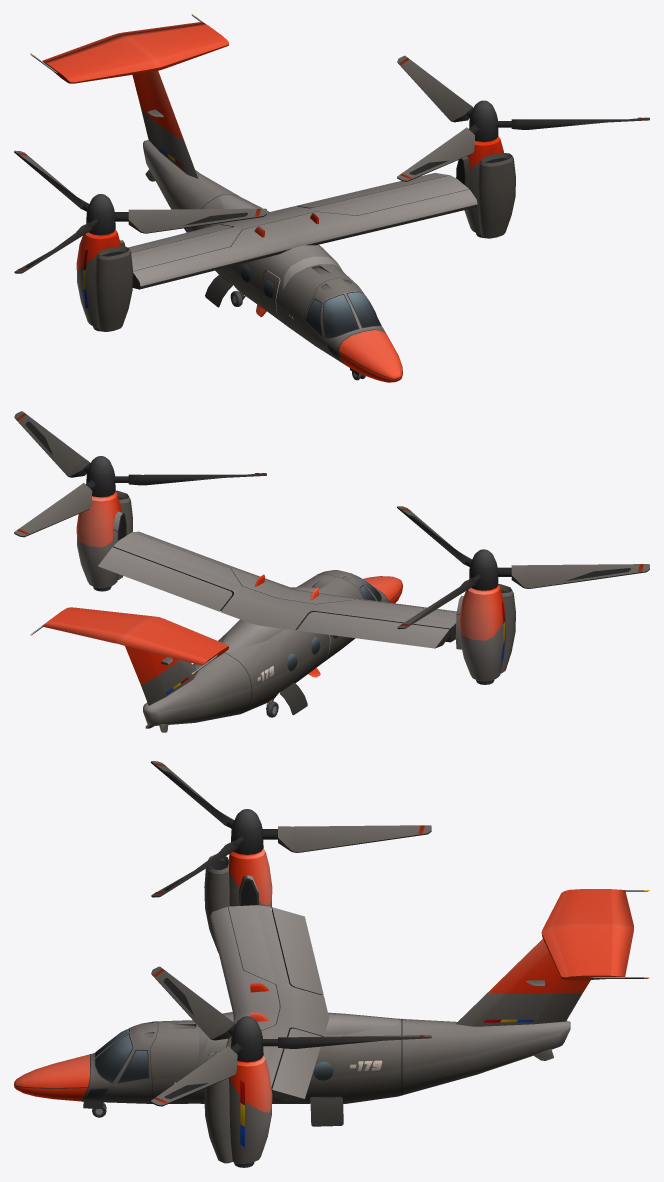
The picture shows the model from 3 angles, top to bottom: view 1: azimuth 30°, elevation 25°; view 2: azimuth 150°, elevation 25°; view 3: azimuth 270°, elevation 25°; orthographic projection. The views are drawn at different scales.
Visible parts, largest first — view 1: Fuselage_Plane_3A, Rotor_3A_L, Rotor_3A_R, Engine_3A_R, Engine_3A_L, Flap_3A_L, Flap_3A_R; view 2: Fuselage_Plane_3A, Rotor_3A_L, Engine_3A_R, Rotor_3A_R, Engine_3A_L, Flap_3A_L, Flap_3A_R, Hatch_3A_R.R; view 3: Fuselage_Plane_3A, Rotor_3A_L, Rotor_3A_R, Engine_3A_L, Engine_3A_R, Flap_3A_R, Flap_3A_L, Hatch_3A_R.L.
Boxes of the visible parts, x1=… form: Fuselage_Plane_3A: x1=30, y1=14, x2=477, y2=382; Rotor_3A_L: x1=397, y1=55, x2=649, y2=181; Rotor_3A_R: x1=14, y1=150, x2=266, y2=273; Engine_3A_R: x1=76, y1=229, x2=132, y2=331; Engine_3A_L: x1=456, y1=136, x2=515, y2=238; Flap_3A_L: x1=296, y1=173, x2=449, y2=208; Flap_3A_R: x1=128, y1=224, x2=232, y2=252; Fuselage_Plane_3A: x1=30, y1=531, x2=456, y2=732; Rotor_3A_L: x1=14, y1=411, x2=266, y2=537; Engine_3A_R: x1=455, y1=584, x2=515, y2=684; Rotor_3A_R: x1=397, y1=506, x2=649, y2=629; Engine_3A_L: x1=76, y1=490, x2=132, y2=591; Flap_3A_L: x1=98, y1=547, x2=232, y2=611; Flap_3A_R: x1=296, y1=612, x2=449, y2=648; Hatch_3A_R.R: x1=280, y1=682, x2=307, y2=715; Fuselage_Plane_3A: x1=14, y1=889, x2=649, y2=1103; Rotor_3A_L: x1=151, y1=966, x2=431, y2=1106; Rotor_3A_R: x1=150, y1=761, x2=431, y2=897; Engine_3A_L: x1=204, y1=1055, x2=272, y2=1167; Engine_3A_R: x1=204, y1=848, x2=272, y2=952; Flap_3A_R: x1=272, y1=907, x2=323, y2=995; Flap_3A_L: x1=272, y1=1028, x2=321, y2=1101; Hatch_3A_R.L: x1=310, y1=1096, x2=343, y2=1126.
Bounding box in the file's own units: 17.66 × 4.85 × 13.81.
